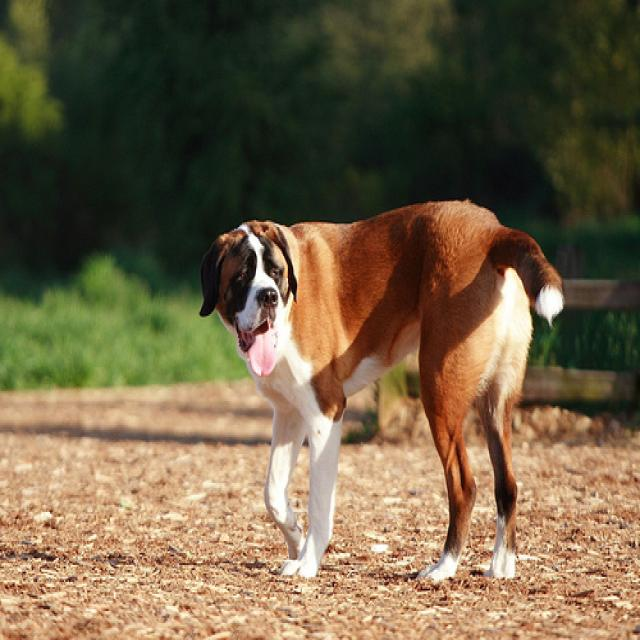dog-saint_bernard: (195, 198, 570, 594)
